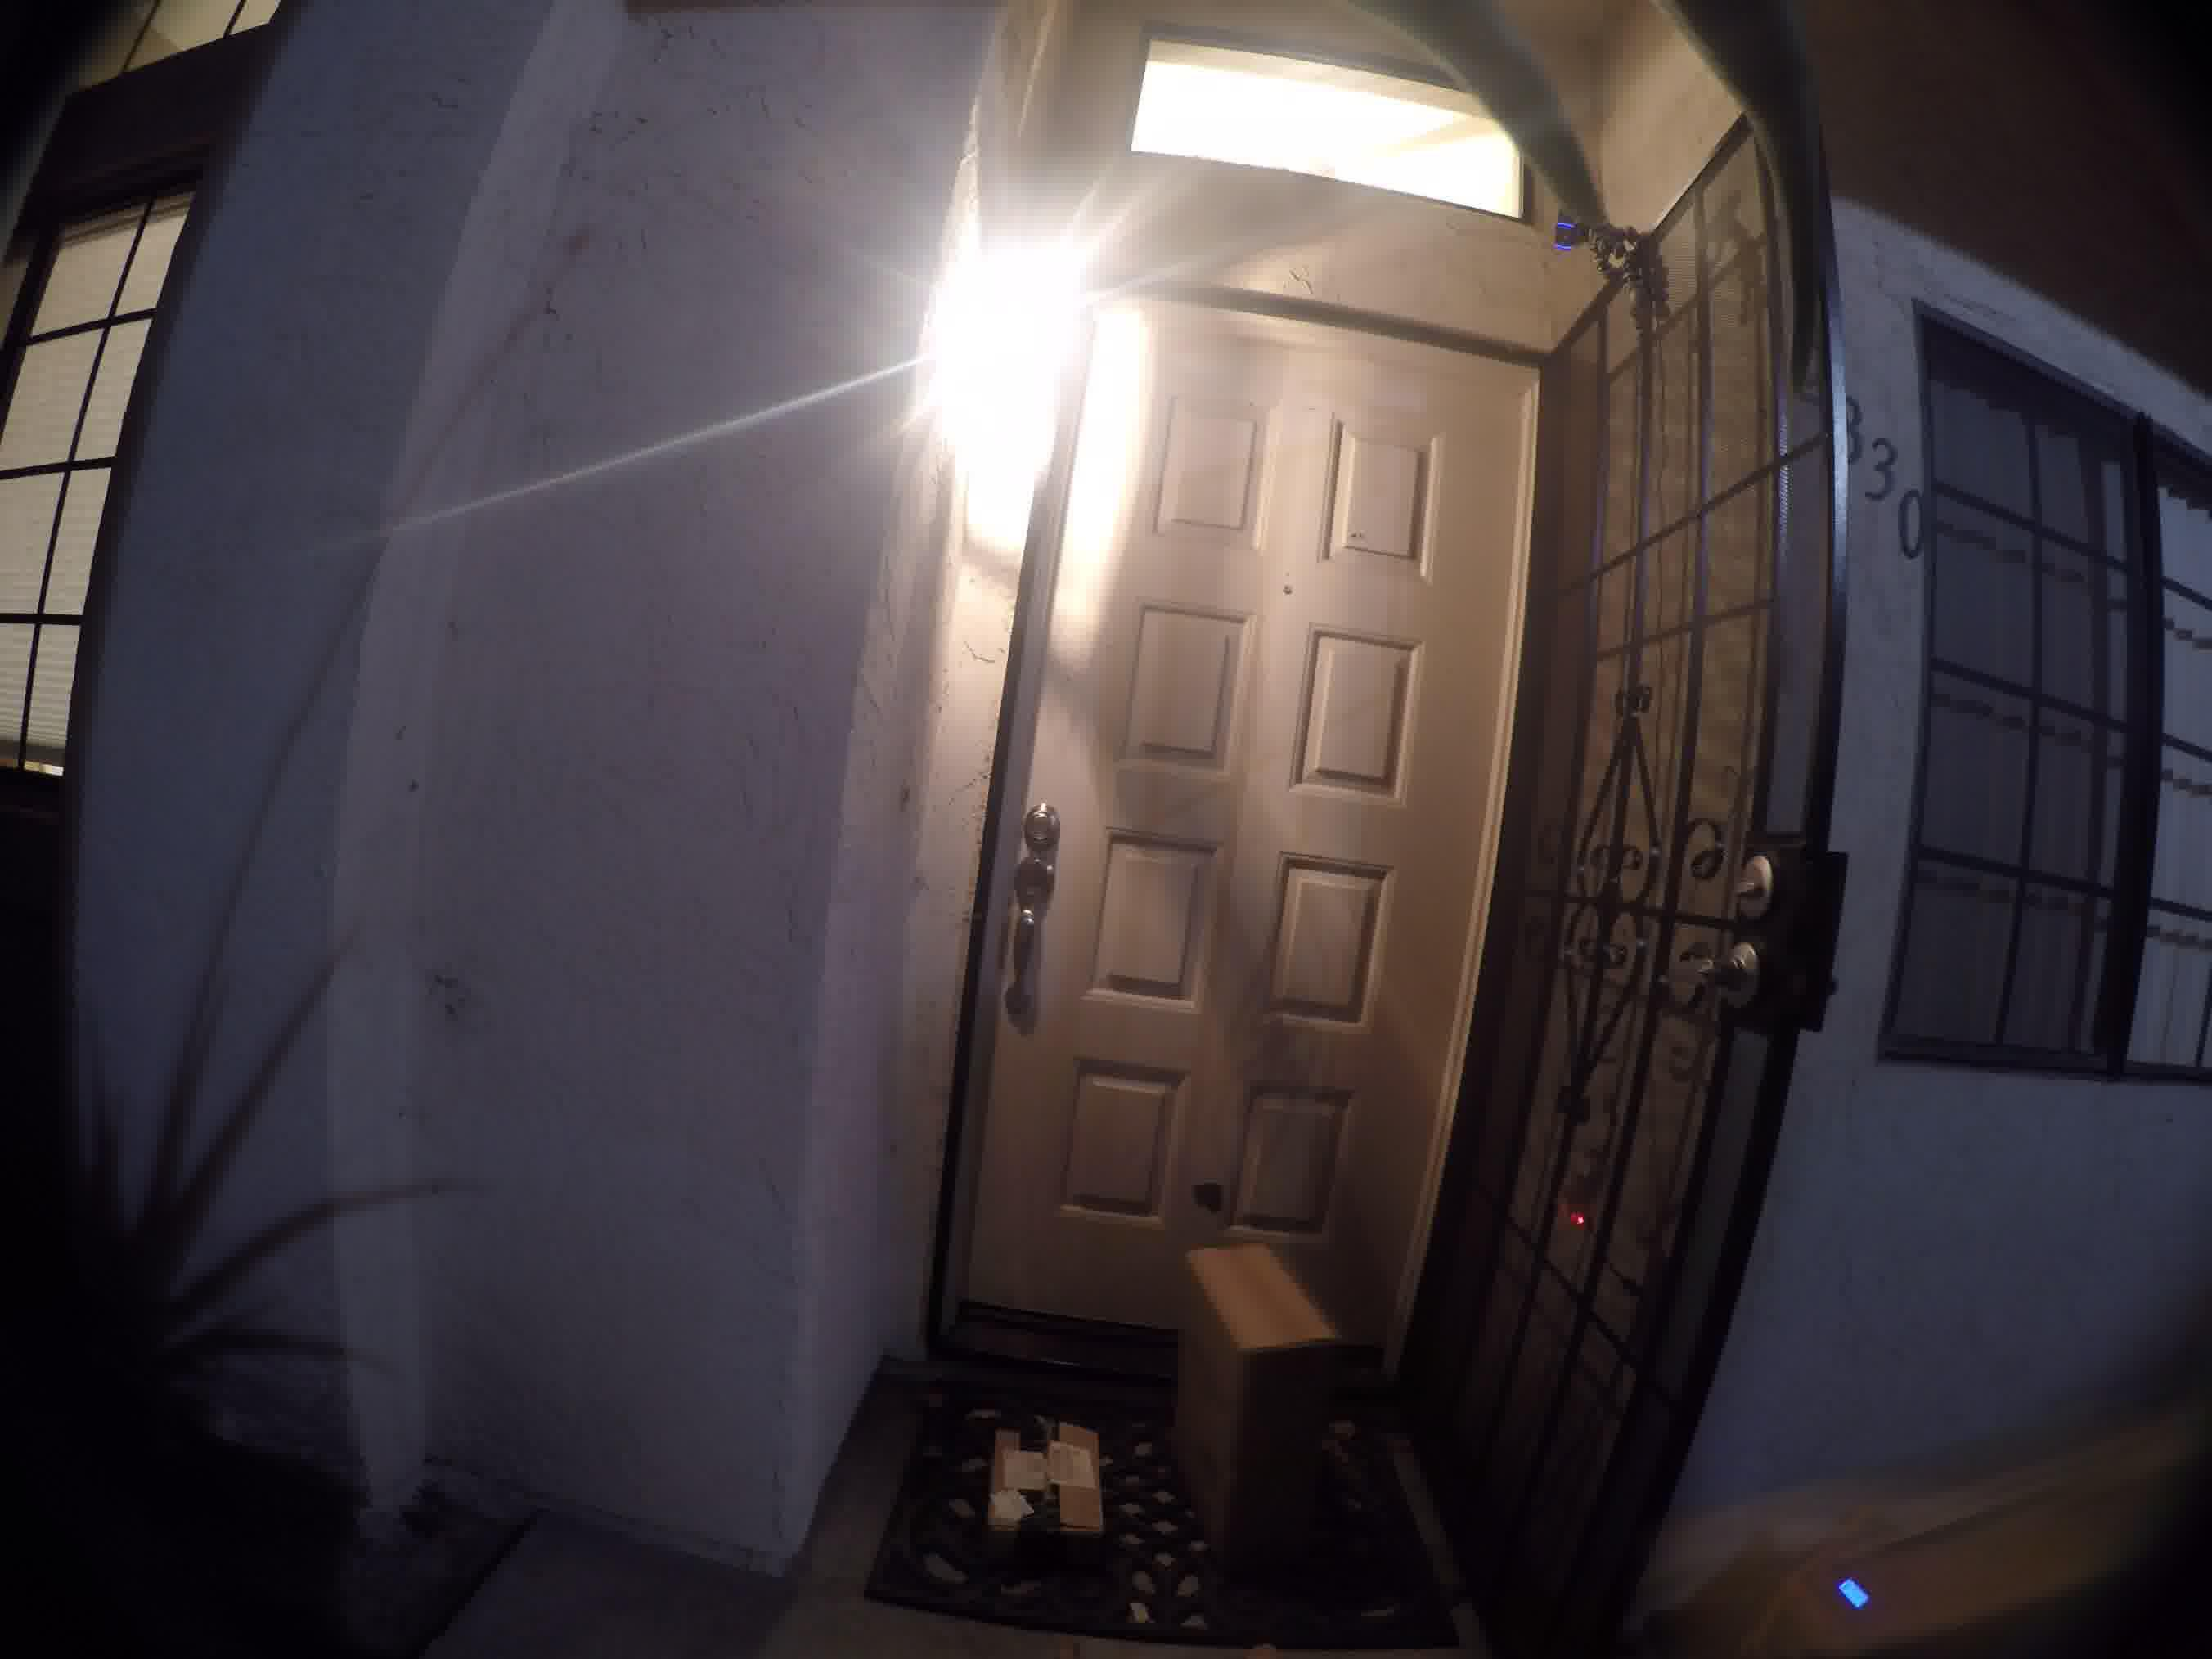box: (1170, 1237, 1341, 1598), (972, 1417, 1111, 1565)
